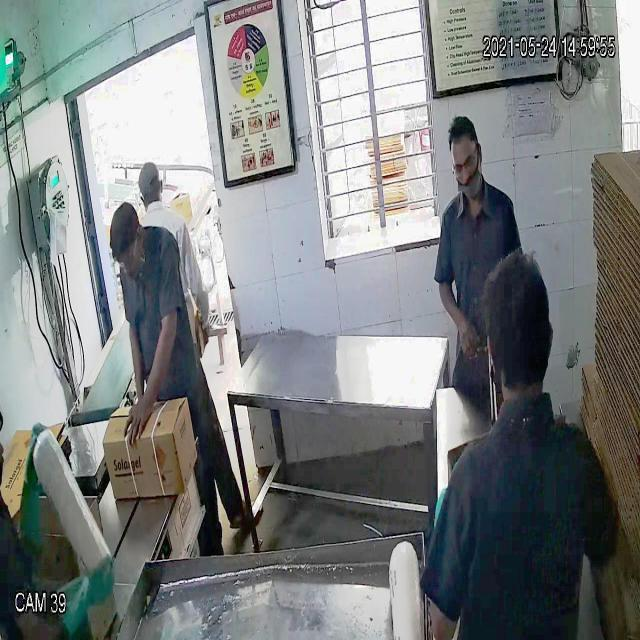glasses: (447, 147, 483, 181)
